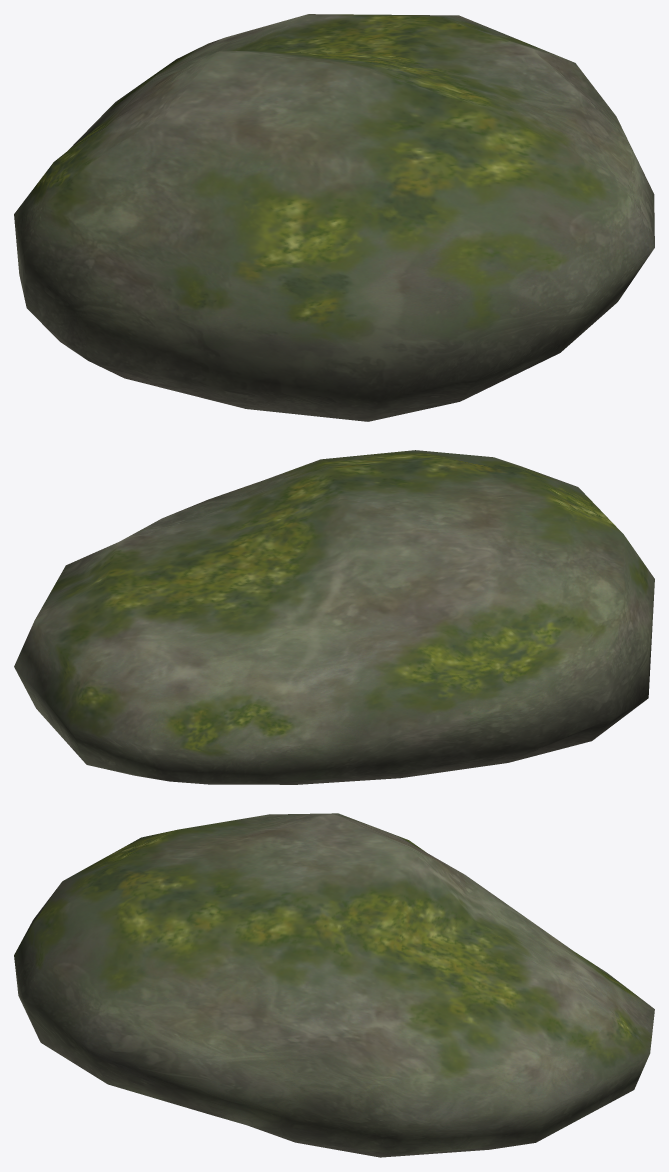
The model's file is stone_Medium_01.FBX.
3 views of the same model, one above another, from view 1: azimuth 30°, elevation 25°; view 2: azimuth 150°, elevation 25°; view 3: azimuth 270°, elevation 25° (orthographic). The views are drawn at different scales.
Visible parts, largest first — view 1: stone_Medium_01; view 2: stone_Medium_01; view 3: stone_Medium_01.
Part boxes in pixels (x1,y1,x2,y2): stone_Medium_01: (14, 14, 654, 421); stone_Medium_01: (14, 450, 654, 784); stone_Medium_01: (14, 813, 654, 1157).
Bounding box in the file's own units: 32.27 × 11.93 × 34.77.
